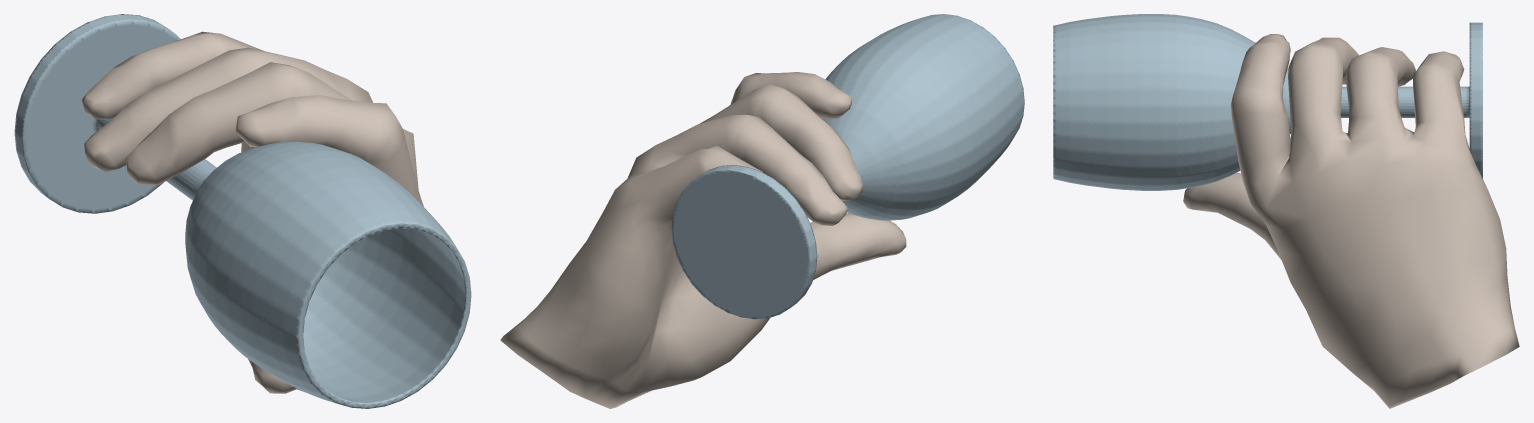
File: ours_0.glb
3 renders of one model, left to right at view 1: azimuth 30°, elevation 25°; view 2: azimuth 150°, elevation 25°; view 3: azimuth 270°, elevation 25°, orthographic. The views are drawn at different scales.
Size of the model in its own units: 0.1458 by 0.1342 by 0.1867.
